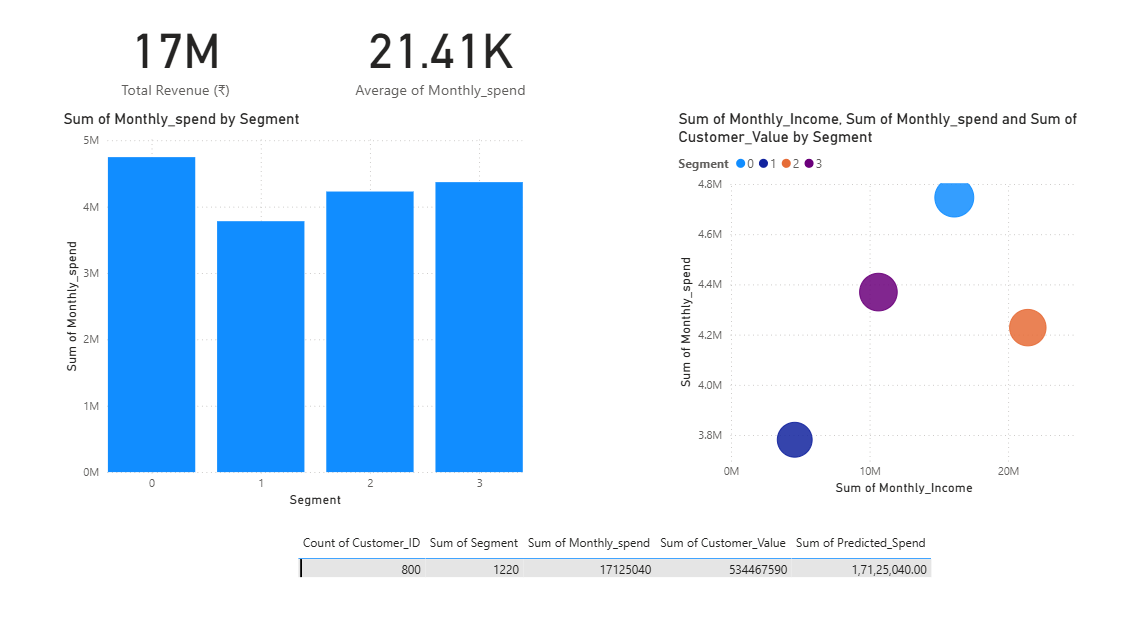

This screenshot's page, from the dashboard's own definition file:
{"tool":"powerbi","page":{"name":"Page 1","canvas":[1280,720],"ordinal":0},"visuals":[{"type":"clusteredColumnChart","fields":{"Category":["final_customer_analysis_output.Segment"],"Y":["Sum(final_customer_analysis_output.Monthly_Spend)"]},"box":[70,123.3,520,445],"z":0},{"type":"card","fields":{"Values":["Avg(final_customer_analysis_output.Total Revenue (₹))"]},"box":[346.8,0,293.8,122.7],"z":1000},{"type":"card","fields":{"Values":["Sum(final_customer_analysis_output.Monthly_Spend)"]},"box":[51.5,0,295.3,122.7],"z":2000},{"type":"scatterChart","fields":{"X":["Sum(final_customer_analysis_output.Monthly_Income)"],"Y":["Sum(final_customer_analysis_output.Monthly_spend)"],"Series":["final_customer_analysis_output.Segment"],"Size":["Sum(final_customer_analysis_output.Customer_Value)"]},"box":[753.3,123.3,465,431.7],"z":3000},{"type":"tableEx","fields":{"Values":["CountNonNull(final_customer_analysis_output.Customer_ID)","Sum(final_customer_analysis_output.Segment)","Sum(final_customer_analysis_output.Monthly_spend)","Sum(final_customer_analysis_output.Customer_Value)","Sum(final_customer_analysis_output.Predicted_Spend)"]},"box":[330,588.3,721.7,90],"z":3001}]}

Visuals, with their boxes on the page's 1280x720 design canvas (x1, y1, x2, y2). These are canvas units, not pixel positions in the 1138x620 screenshot, which may show the page scaled, cropped or inside an application window:
clusteredColumnChart - final_customer_analysis_output.Segment x Sum(final_customer_analysis_output.Monthly_Spend): locate(70, 123, 590, 568)
card - Avg(final_customer_analysis_output.Total Revenue (₹)): locate(347, 0, 641, 123)
card - Sum(final_customer_analysis_output.Monthly_Spend): locate(52, 0, 347, 123)
scatterChart - Sum(final_customer_analysis_output.Monthly_Income) x Sum(final_customer_analysis_output.Monthly_spend): locate(753, 123, 1218, 555)
tableEx - CountNonNull(final_customer_analysis_output.Customer_ID) x Sum(final_customer_analysis_output.Segment): locate(330, 588, 1052, 678)
